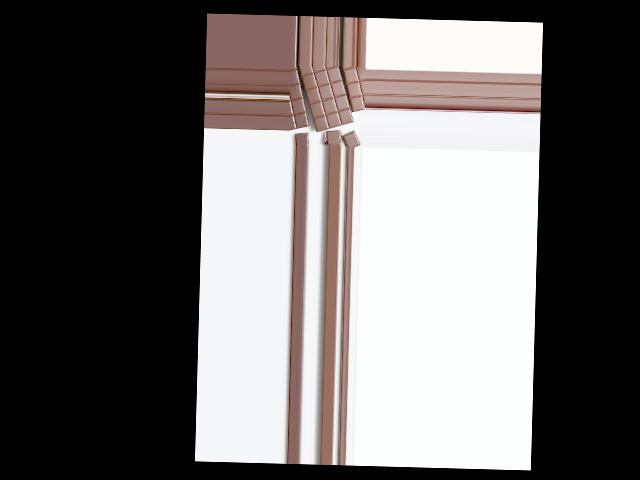chocolate: (299, 64, 356, 132)
